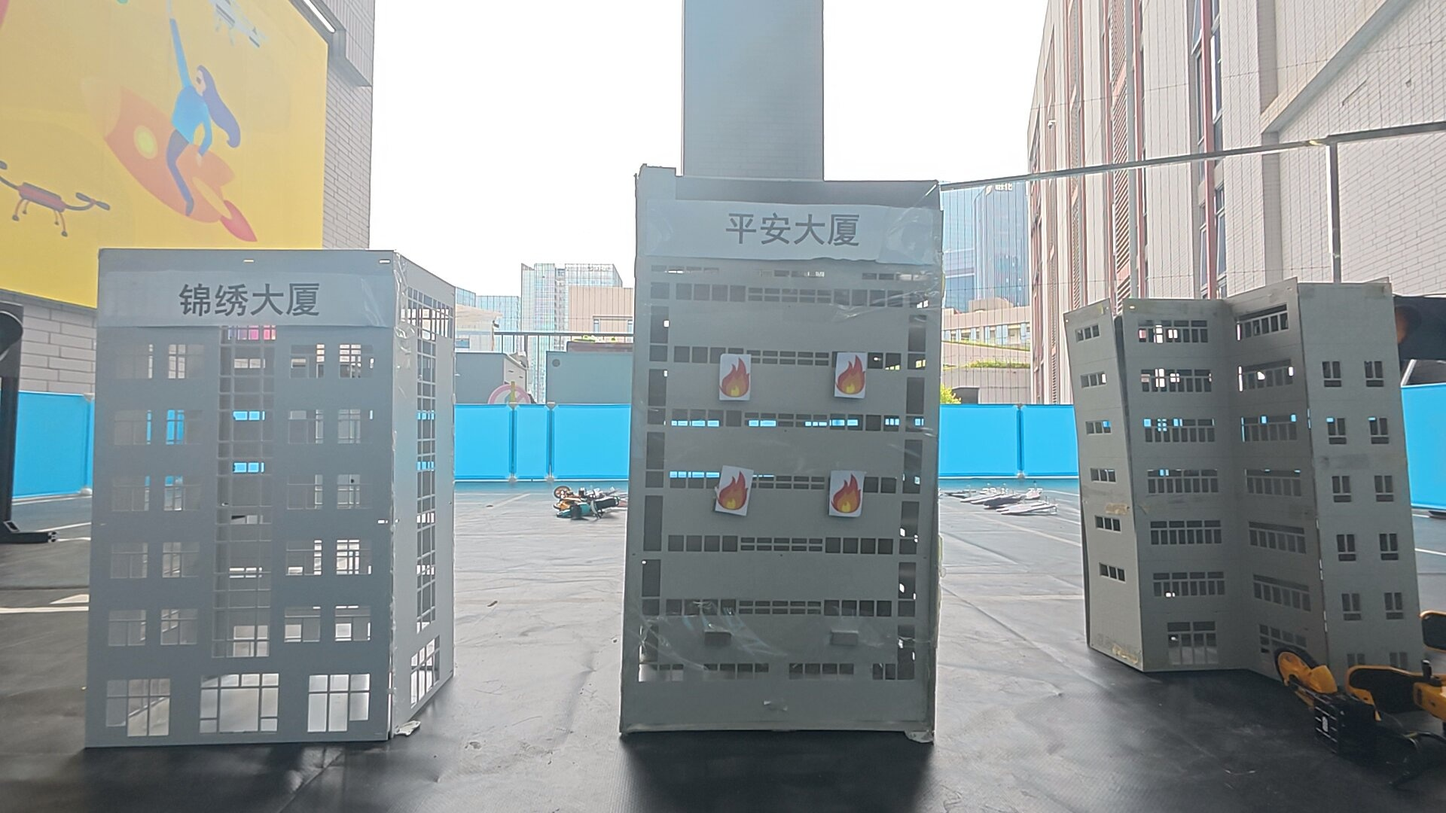fire: (715, 465, 754, 516), (828, 470, 866, 517), (718, 352, 754, 400), (833, 352, 870, 398)
